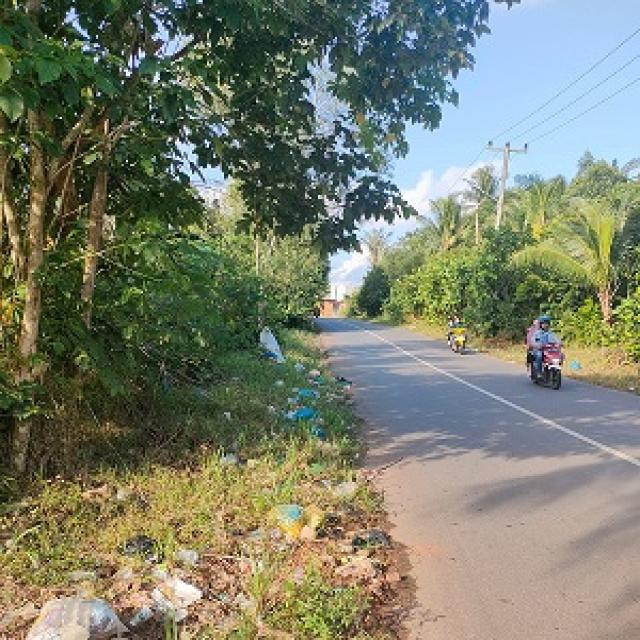trash: (246, 322, 389, 524)
